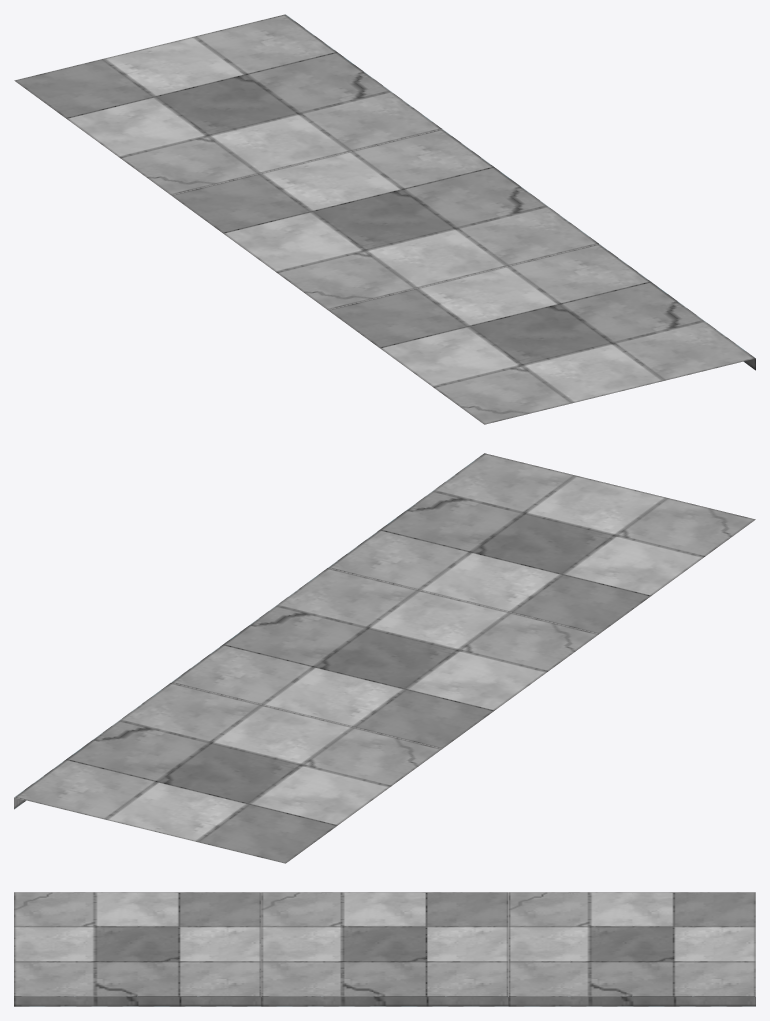
The model's file is Block_SemiCorner.fbx.
3 views of the same model, one above another, from view 1: azimuth 30°, elevation 25°; view 2: azimuth 150°, elevation 25°; view 3: azimuth 270°, elevation 25° (orthographic). The views are drawn at different scales.
Parts seen in each view (by area): view 1: Block_SemiCorner; view 2: Block_SemiCorner; view 3: Block_SemiCorner.
Part boxes in pixels (<box>): Block_SemiCorner: <box>14,14,755,424</box>; Block_SemiCorner: <box>14,453,755,863</box>; Block_SemiCorner: <box>14,892,755,1006</box>.
Size of the model in its own units: 600 by 25.83 by 1800.
